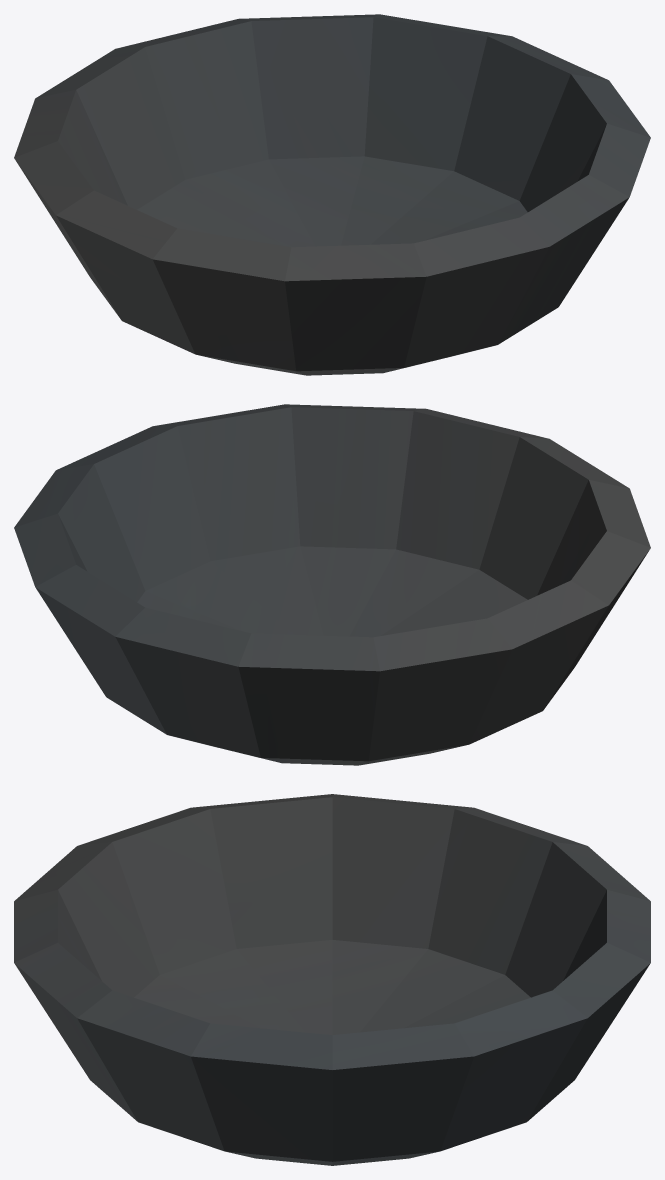
File: Bowl_02.FBX
3 views of the same model, one above another, from view 1: azimuth 30°, elevation 25°; view 2: azimuth 150°, elevation 25°; view 3: azimuth 270°, elevation 25° (orthographic). The views are drawn at different scales.
Visible parts, largest first — view 1: Bowl_02; view 2: Bowl_02; view 3: Bowl_02.
Part boxes in pixels (left/top/right/bottom): Bowl_02: left=14, top=14, right=650, bottom=375; Bowl_02: left=14, top=404, right=650, bottom=765; Bowl_02: left=14, top=794, right=650, bottom=1165.
Bounding box in the file's own units: 0.9133 × 0.27 × 0.8904.
